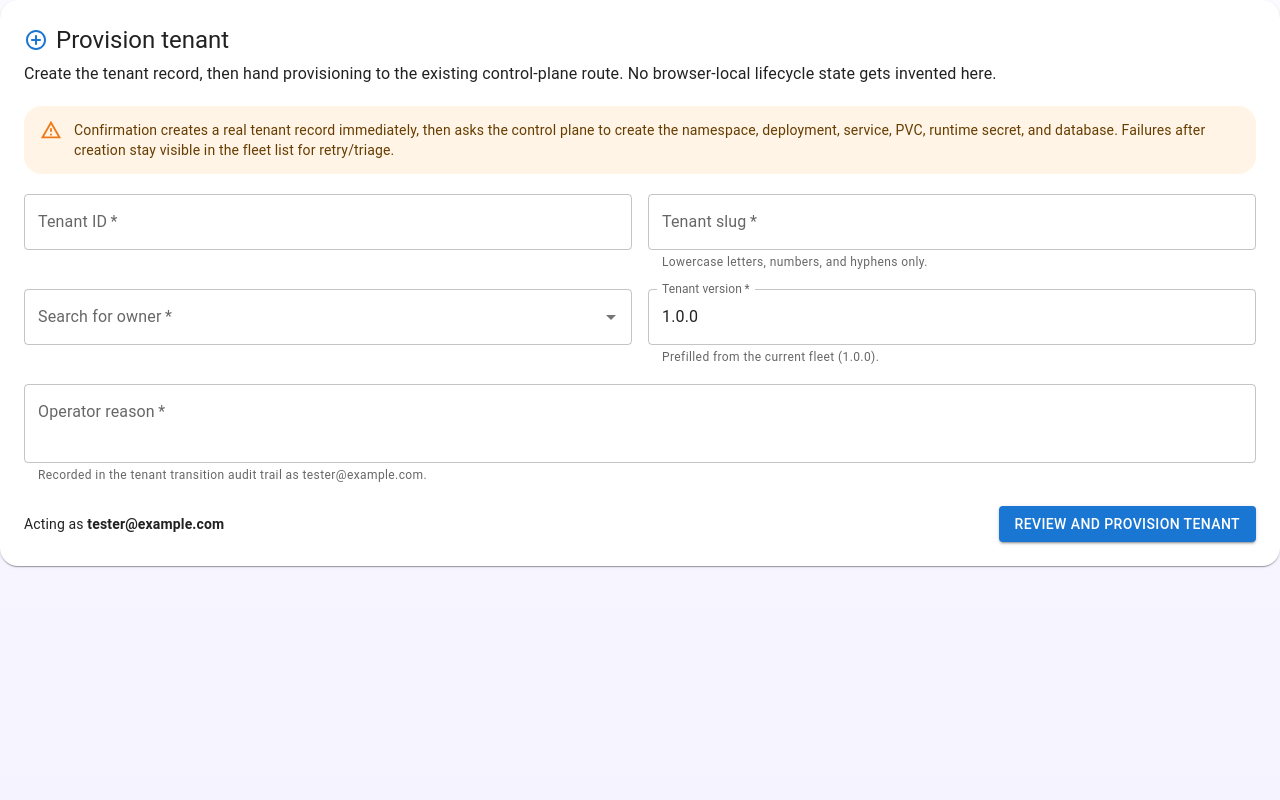
ProvisionTenantPanel › shows error state when backend returns 500
In the dropdown labelled "Search for owner *": (313, 317) x1=33 y1=298 x2=593 y2=336, type "elaith"
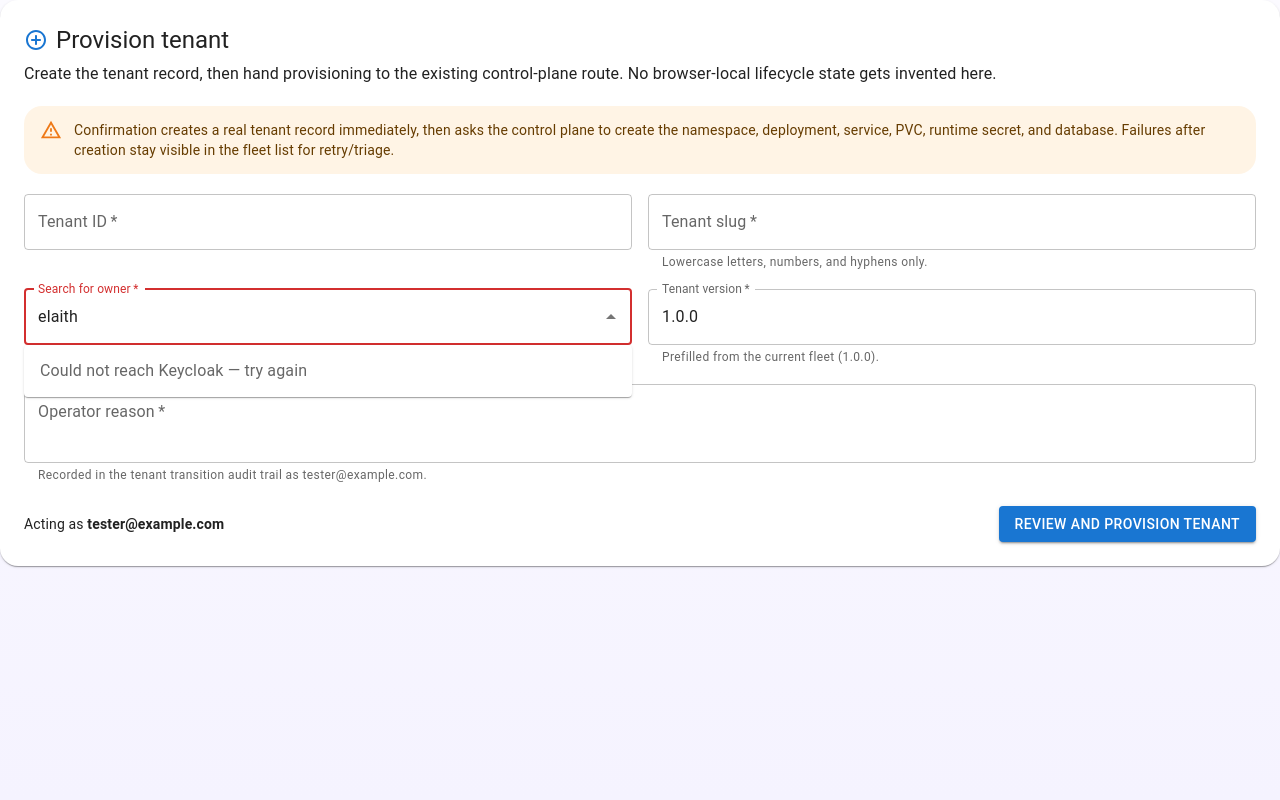
Result: the text "Could not reach Keycloak — try again" below "Search for owner" is shown at x1=38 y1=350 x2=249 y2=364
